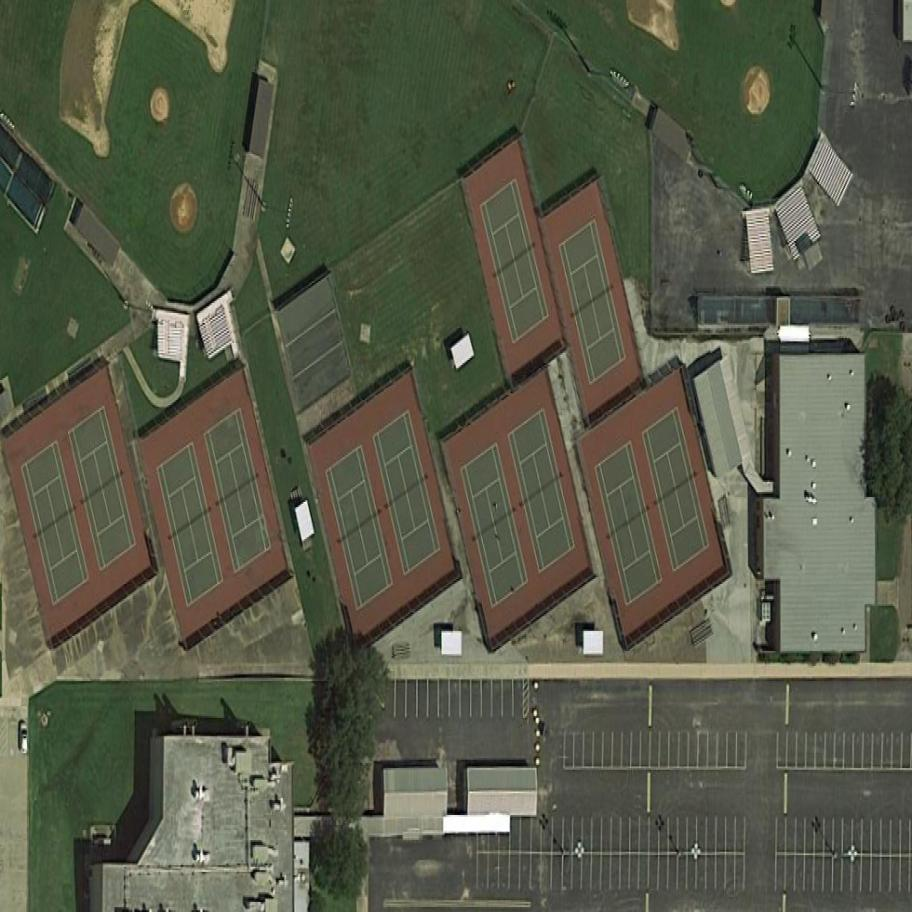small-vehicle: (20, 723, 28, 756)
